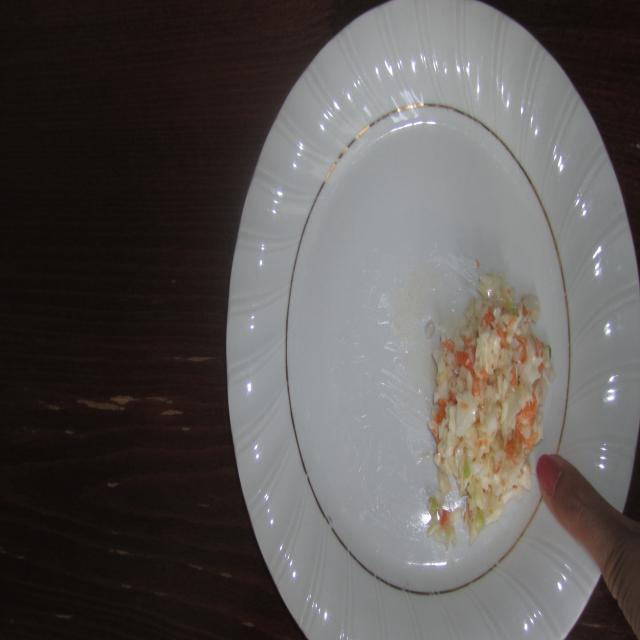vegatable salad: (409, 259, 558, 552)
